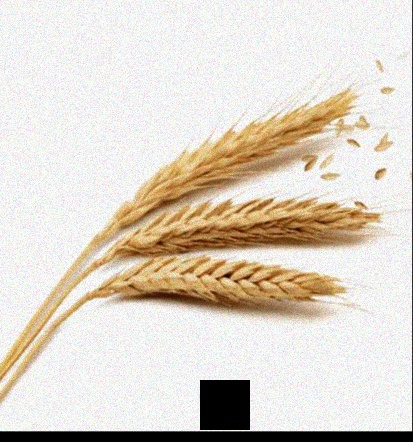wheat: (105, 86, 361, 221), (24, 251, 365, 339), (94, 189, 390, 260)
